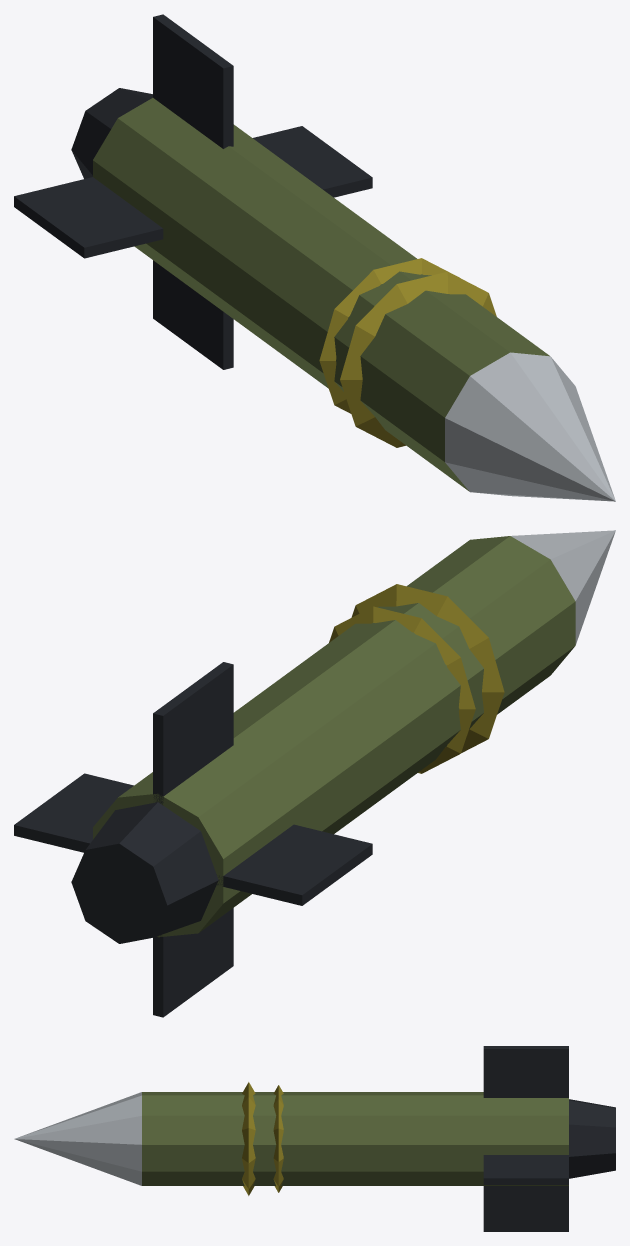
The model's file is missile-fragmentation.glb.
3 renders of one model, top to bottom at view 1: azimuth 30°, elevation 25°; view 2: azimuth 150°, elevation 25°; view 3: azimuth 270°, elevation 25°, orthographic. The views are drawn at different scales.
Visible parts, largest first — view 1: m; view 2: m; view 3: m.
Boxes of the visible parts, <box> form: m: <box>14,14,615,501</box>; m: <box>14,530,615,1017</box>; m: <box>14,1046,615,1231</box>.
Size of the model in its own units: 0.067 by 0.067 by 0.2.
